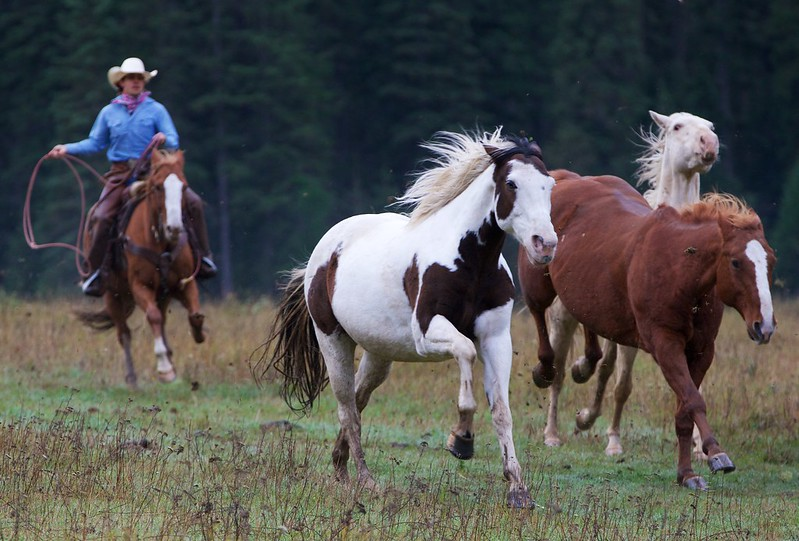horse: (298, 115, 556, 522), (558, 163, 781, 509), (43, 140, 212, 387), (636, 91, 728, 203)
person: (73, 43, 184, 165)
